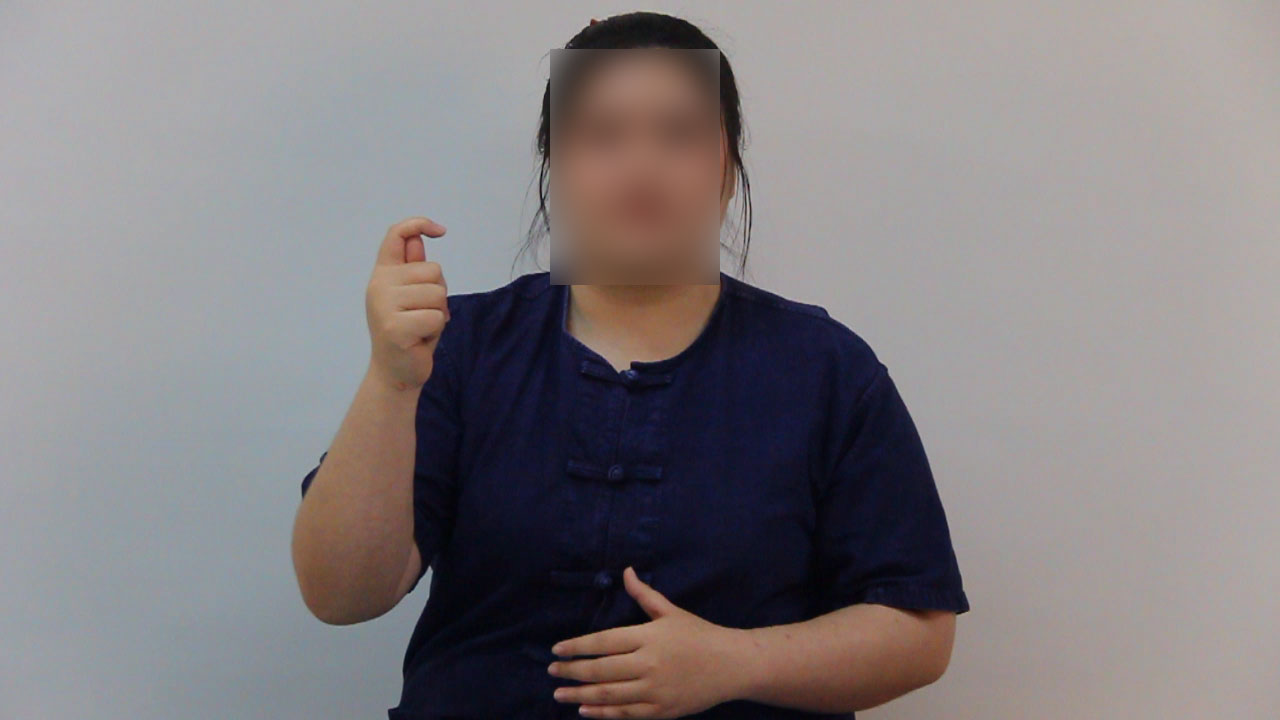or: (360, 205, 460, 405)
